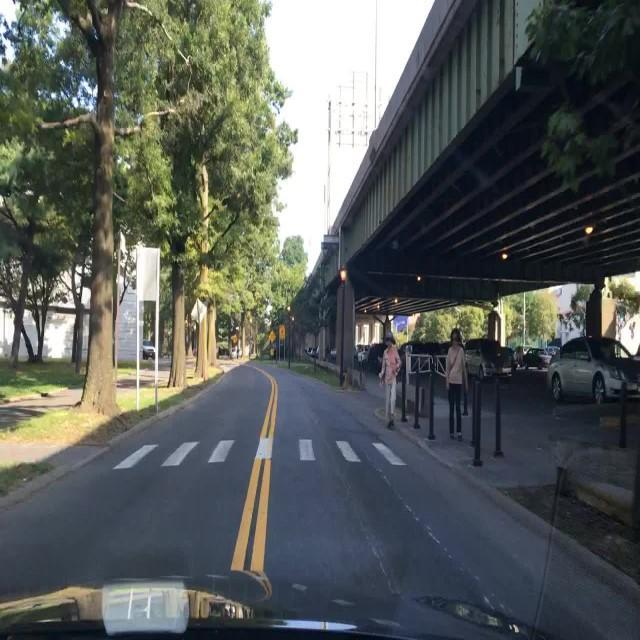normal: (513, 302, 640, 429)
